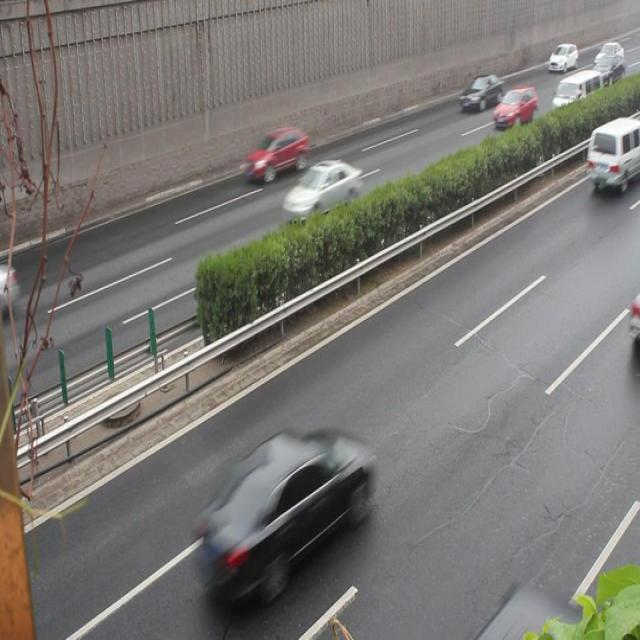car: (196, 426, 370, 598), (282, 158, 361, 222), (244, 127, 308, 182), (490, 87, 536, 129), (457, 72, 502, 110)
truck: (584, 119, 640, 191), (550, 71, 601, 120)
